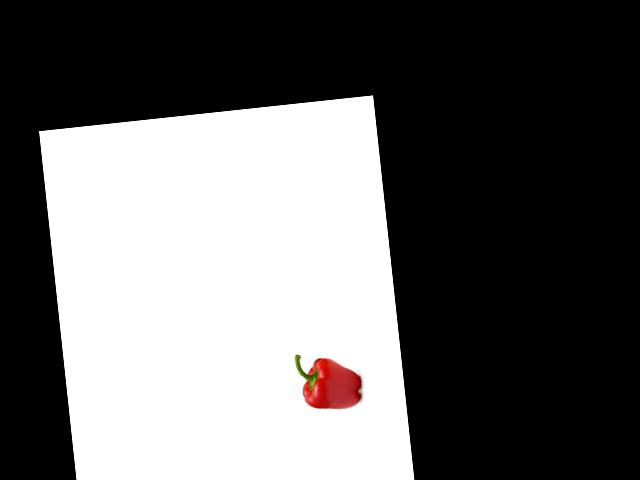bell_pepper: (290, 345, 368, 416)
